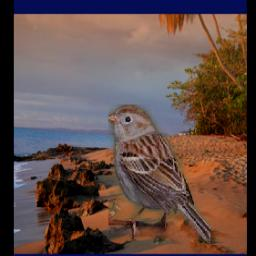Sparrow: (108, 105, 210, 244)
